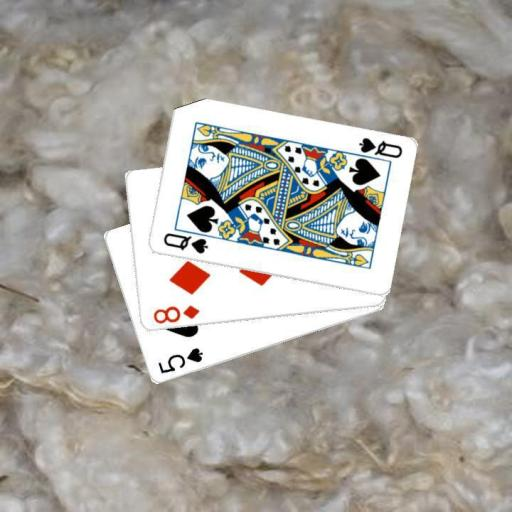card-corner: (154, 345, 204, 375), (159, 230, 209, 256), (355, 134, 403, 160), (150, 302, 201, 326)
